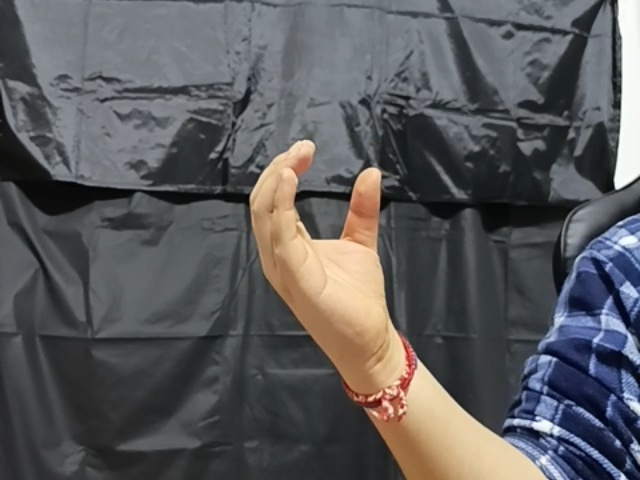C: (247, 136, 408, 347)
